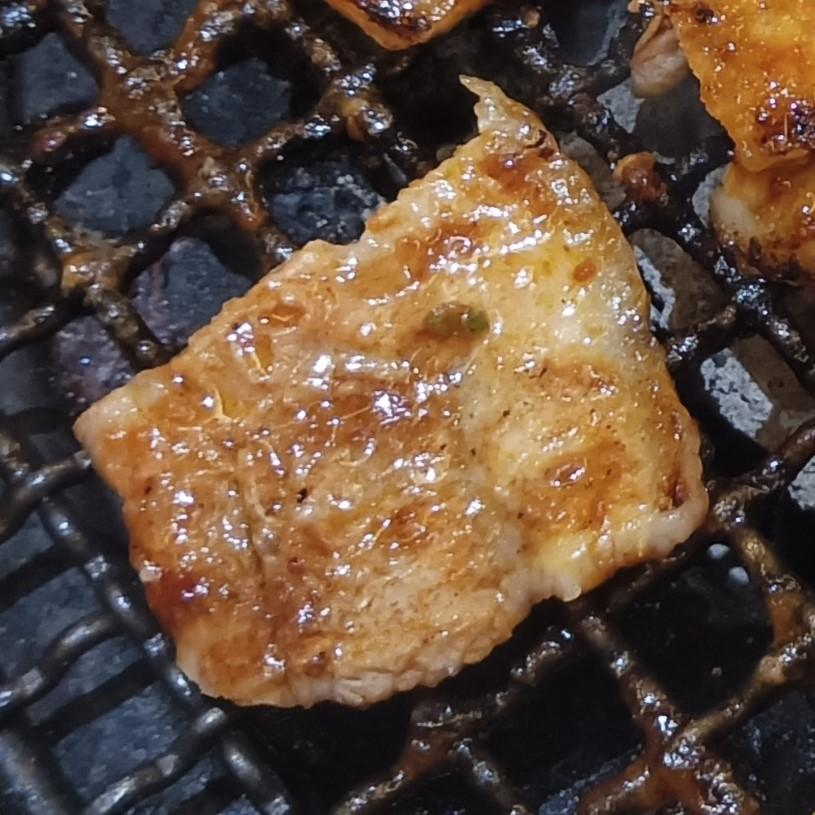Well-Cooked: (68, 84, 712, 715), (667, 0, 814, 292)
